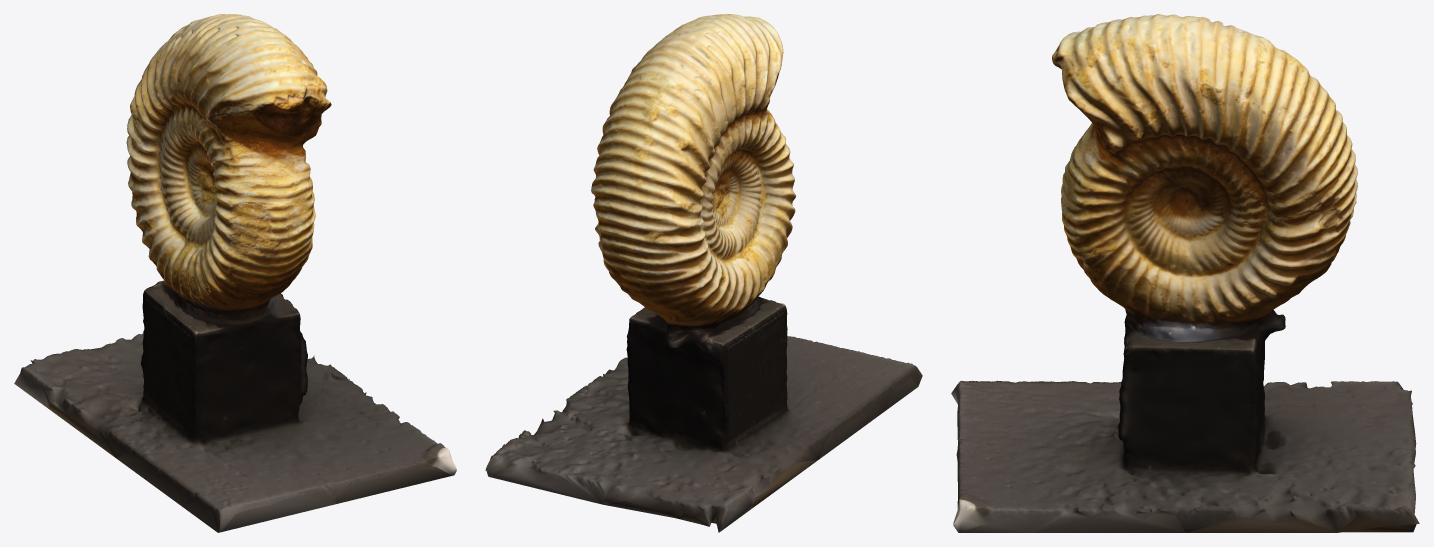
The model's file is Perisphinctes.glb.
3 views of the same model, side by side, from view 1: azimuth 30°, elevation 25°; view 2: azimuth 150°, elevation 25°; view 3: azimuth 270°, elevation 25° (orthographic). The views are drawn at different scales.
Parts seen in each view (by area): view 1: Mesh_0_Part_0; view 2: Mesh_0_Part_0; view 3: Mesh_0_Part_0.
Boxes of the visible parts, bbox=[...] form: Mesh_0_Part_0: bbox=[14, 14, 456, 532]; Mesh_0_Part_0: bbox=[485, 14, 922, 532]; Mesh_0_Part_0: bbox=[951, 14, 1419, 532].
Bounding box in the file's own units: 0.1628 × 0.2669 × 0.2495.
Materials: 1 (1 with a texture image).
